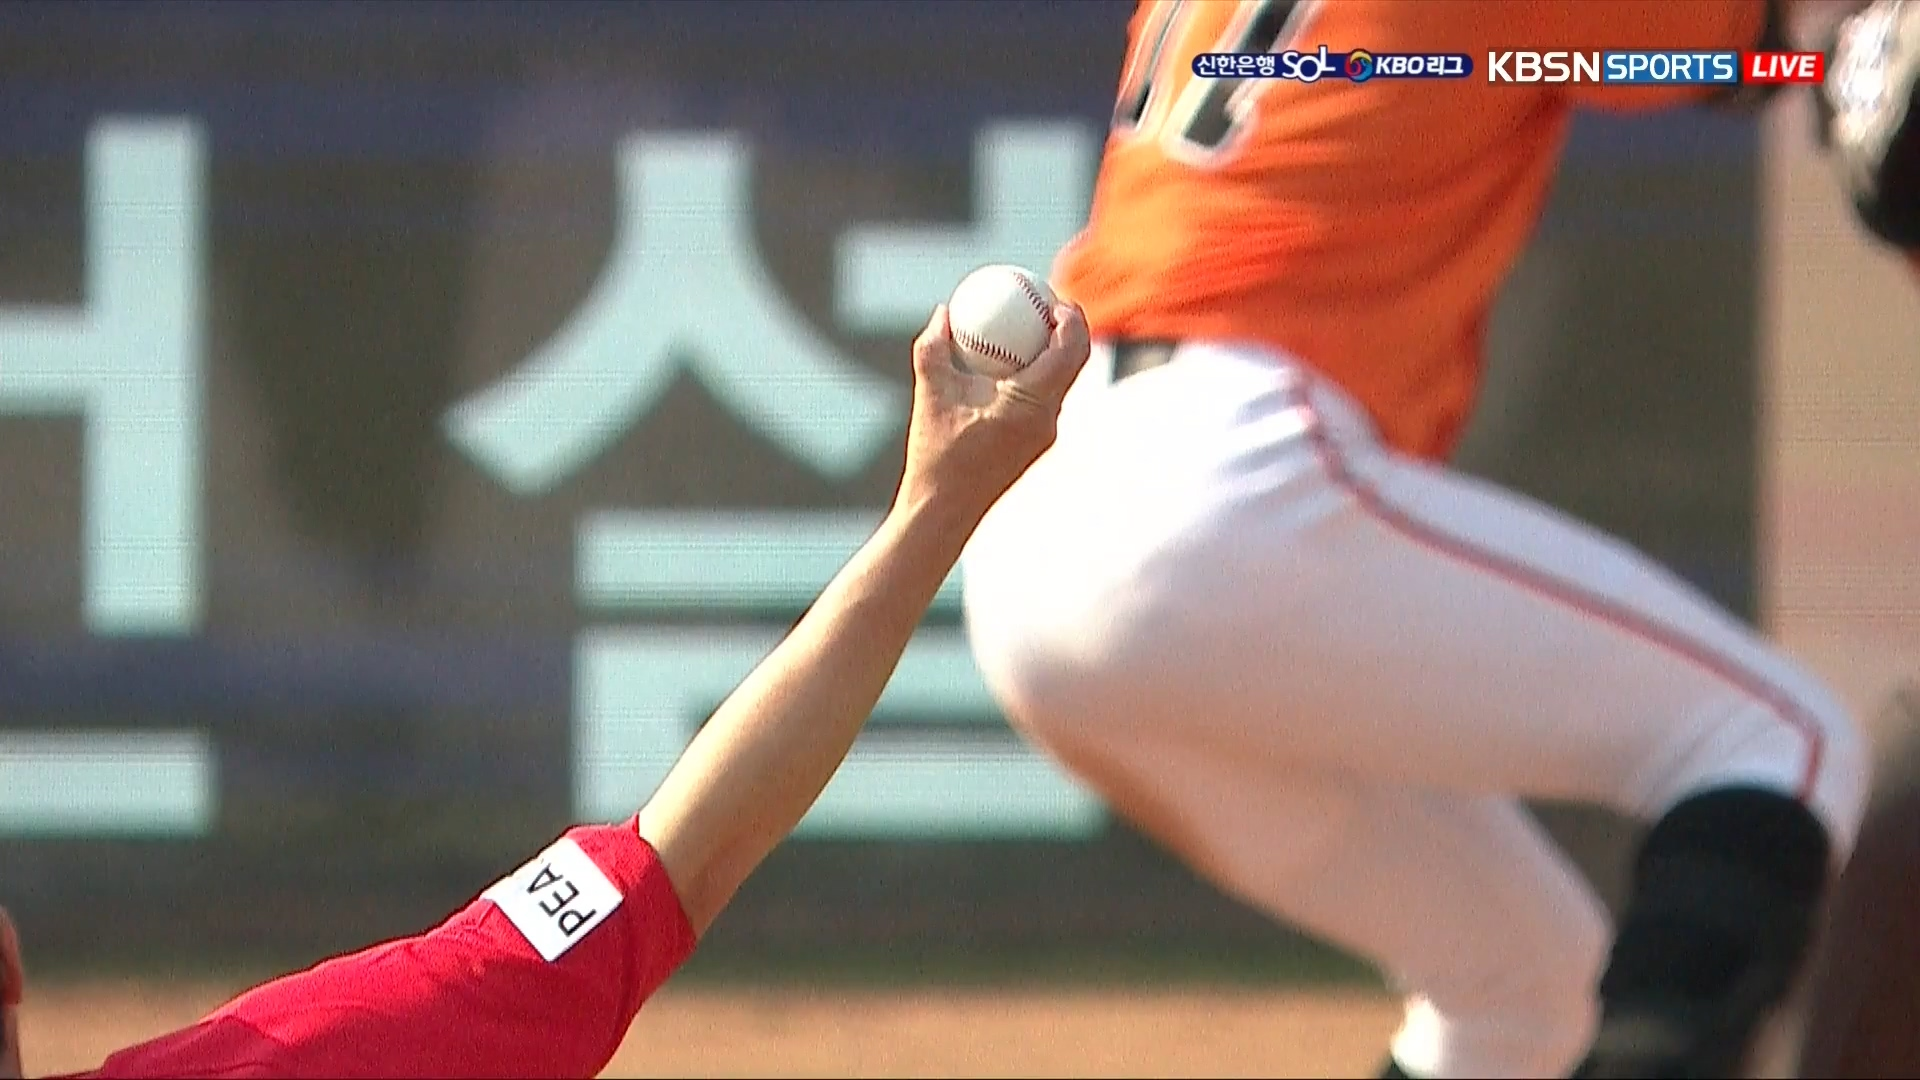zoomin_hand: (632, 224, 1097, 938)
